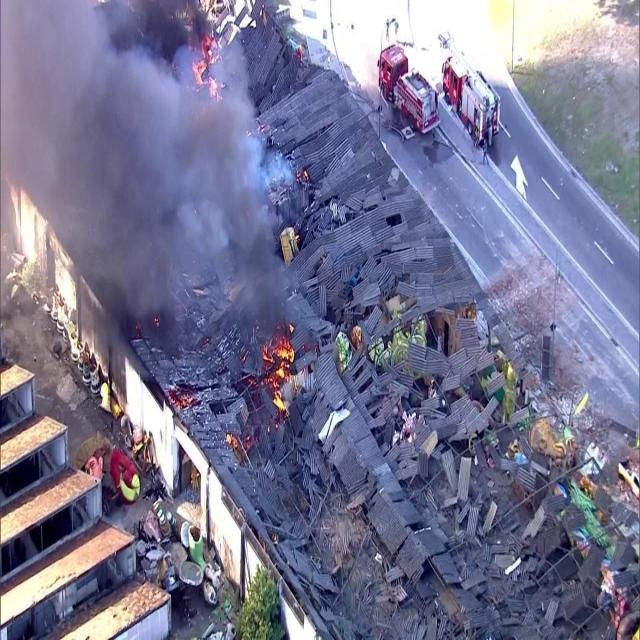smoke: (7, 5, 283, 312)
